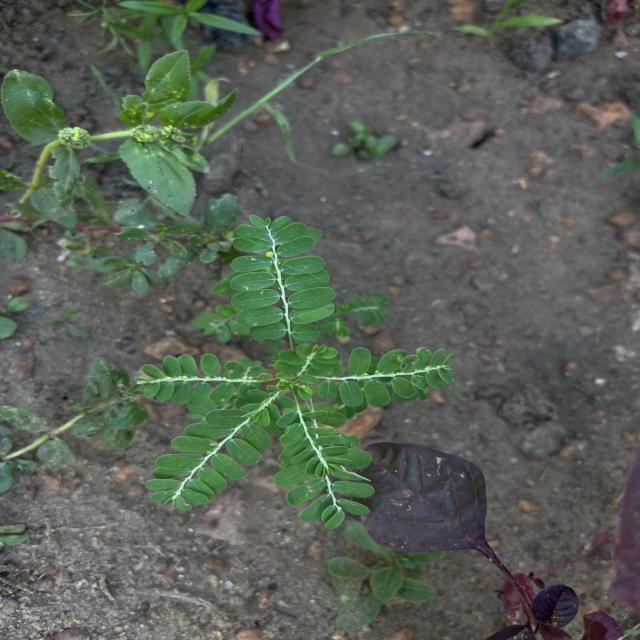Phyllanthus niruri: (230, 211, 340, 346), (144, 402, 272, 516), (278, 410, 377, 534), (342, 344, 458, 412), (126, 350, 266, 406)
